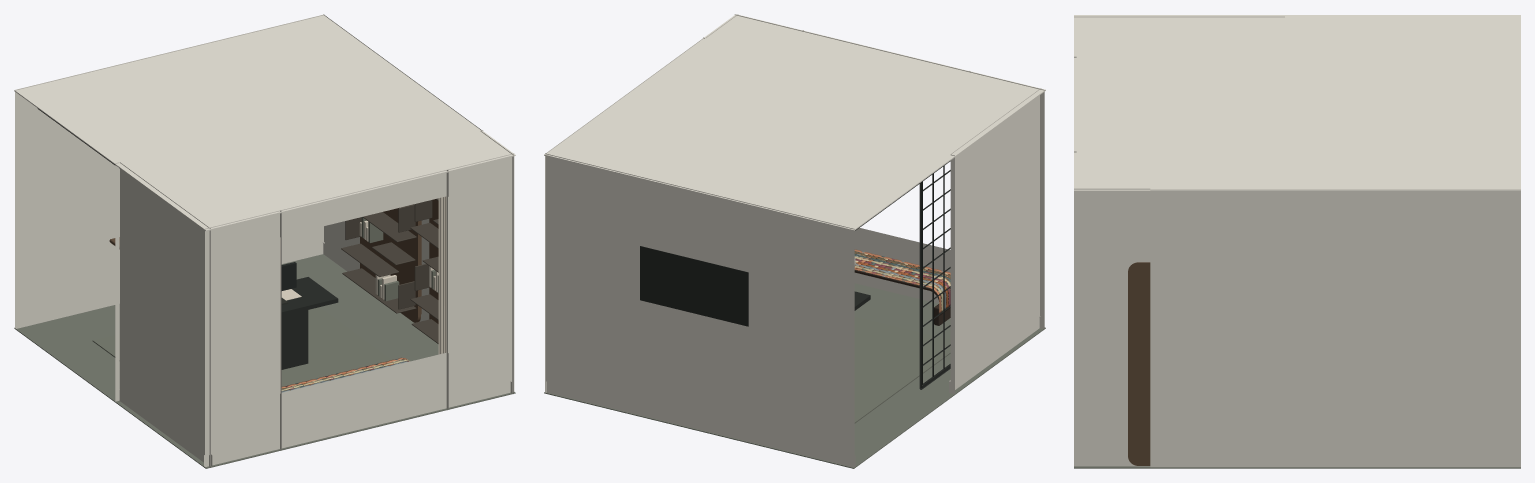
Rendered from formal-1.glb.
3 renders of one model, left to right at view 1: azimuth 30°, elevation 25°; view 2: azimuth 150°, elevation 25°; view 3: azimuth 270°, elevation 25°, orthographic. The views are drawn at different scales.
Parts seen in each view (by area): view 1: DESIGN | formal removable wall finish, DESIGN | formal ceiling finish, DESIGN | formal floor finish, DESIGN | Required Blabla bookcase 2, DESIGN | Formal ground, DESIGN | Required Blabla bookcase 1, DESIGN | Working desk trestle, DESIGN | Formal soft window edge.001, DESIGN | Working desk top, DESIGN | Required Brera anniversary window bench; view 2: DESIGN | formal removable wall finish, DESIGN | formal ceiling finish, DESIGN | formal floor finish, DESIGN | Quiet artwork frame, DESIGN | Formal ground, DESIGN | Required Brera anniversary window bench, DESIGN | Kumiko | Study light-filter beside the entry; view 3: DESIGN | formal removable wall finish, DESIGN | formal ceiling finish, DESIGN | Required Blabla bookcase 1, DESIGN | formal floor finish.
Boxes of the visible parts, bbox=[...] form: DESIGN | formal removable wall finish: bbox=[15, 14, 514, 466]; DESIGN | formal ceiling finish: bbox=[14, 15, 515, 231]; DESIGN | formal floor finish: bbox=[14, 254, 515, 468]; DESIGN | Required Blabla bookcase 2: bbox=[341, 204, 421, 322]; DESIGN | Formal ground: bbox=[92, 307, 391, 386]; DESIGN | Required Blabla bookcase 1: bbox=[410, 198, 438, 343]; DESIGN | Working desk trestle: bbox=[281, 310, 308, 369]; DESIGN | Formal soft window edge.001: bbox=[438, 196, 446, 354]; DESIGN | Working desk top: bbox=[281, 277, 338, 316]; DESIGN | Required Brera anniversary window bench: bbox=[281, 357, 409, 392]; DESIGN | formal removable wall finish: bbox=[545, 14, 1044, 467]; DESIGN | formal ceiling finish: bbox=[544, 14, 1045, 231]; DESIGN | formal floor finish: bbox=[544, 283, 1045, 468]; DESIGN | Quiet artwork frame: bbox=[640, 246, 748, 326]; DESIGN | Formal ground: bbox=[854, 316, 950, 423]; DESIGN | Required Brera anniversary window bench: bbox=[854, 249, 950, 325]; DESIGN | Kumiko | Study light-filter beside the entry: bbox=[919, 166, 950, 389]; DESIGN | formal removable wall finish: bbox=[1074, 16, 1520, 467]; DESIGN | formal ceiling finish: bbox=[1074, 15, 1520, 191]; DESIGN | Required Blabla bookcase 1: bbox=[1128, 262, 1150, 465]; DESIGN | formal floor finish: bbox=[1074, 466, 1520, 468].
Size of the model in its own units: 3.71 by 2.74 by 3.98.
